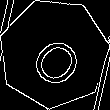O_NE: (20, 20, 87, 87)
